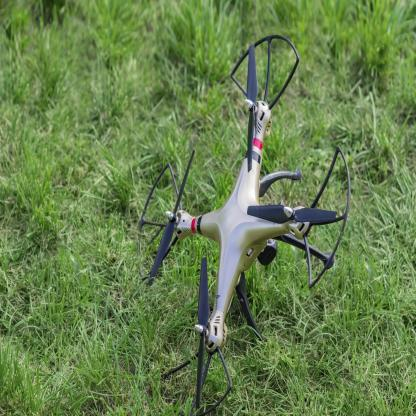drone: (137, 30, 370, 375)
